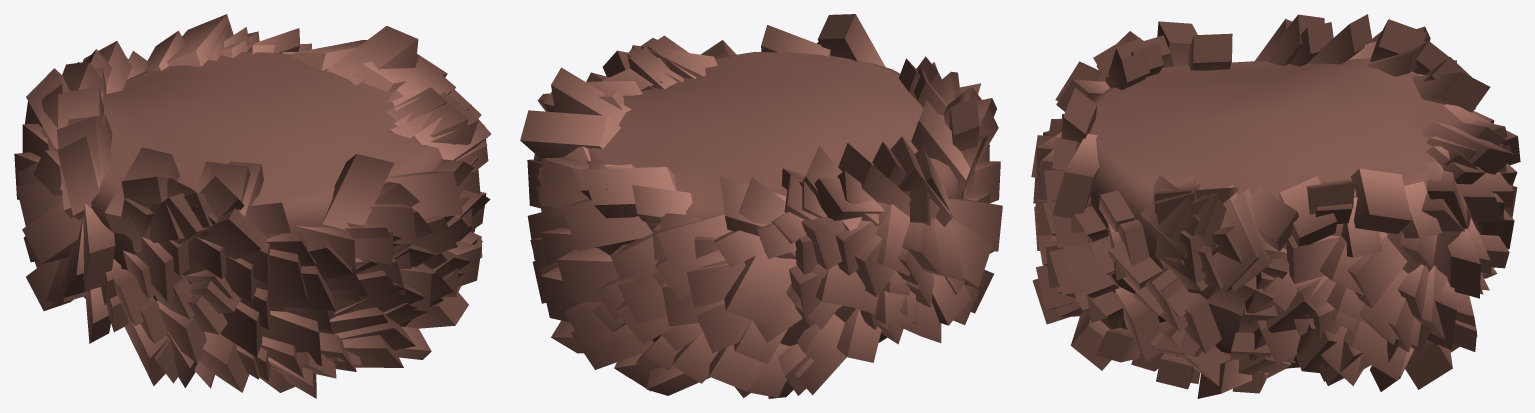
Rendered from SM_NestCover.fbx.
3 renders of one model, left to right at view 1: azimuth 30°, elevation 25°; view 2: azimuth 150°, elevation 25°; view 3: azimuth 270°, elevation 25°, orthographic. The views are drawn at different scales.
Visible parts, largest first — view 1: SM_Nest; view 2: SM_Nest; view 3: SM_Nest.
Boxes of the visible parts, x1,y1,x2,y2 form: SM_Nest: [14, 14, 491, 398]; SM_Nest: [520, 14, 1002, 398]; SM_Nest: [1031, 14, 1520, 398].
Size of the model in its own units: 362 by 214 by 358.
